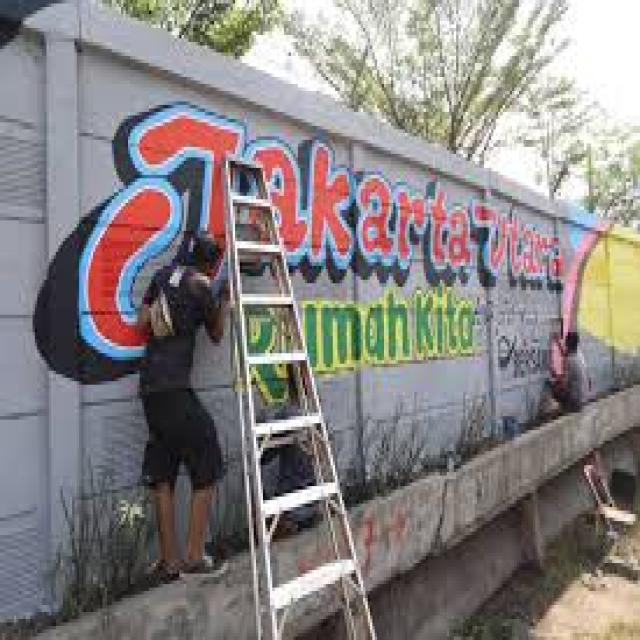-: (70, 98, 569, 408)
